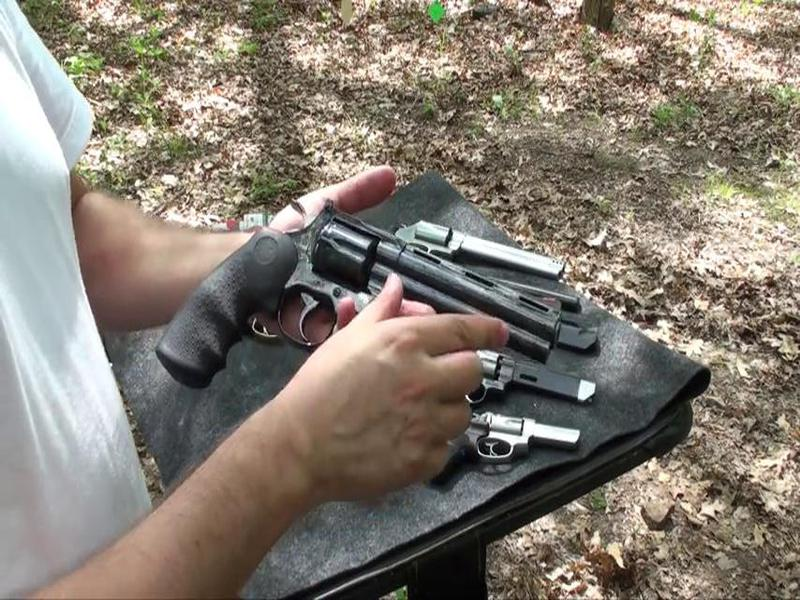Revolver: (153, 202, 577, 385)
